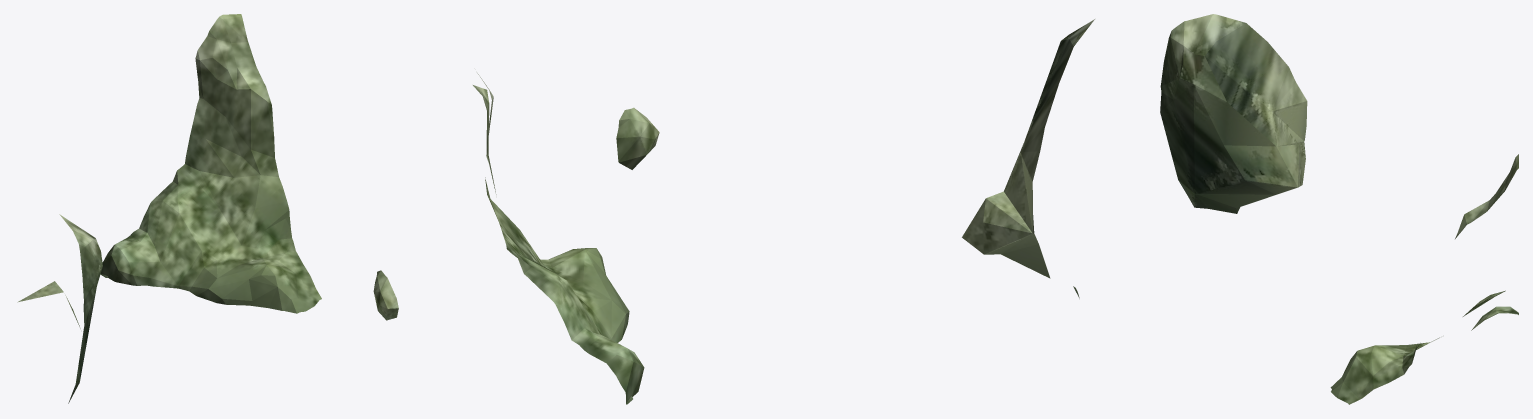
3 views of the same model, side by side, from view 1: azimuth 30°, elevation 25°; view 2: azimuth 150°, elevation 25°; view 3: azimuth 270°, elevation 25° (orthographic). The views are drawn at different scales.
Size of the model in its own units: 2.95 by 1.97 by 2.66.
1 material, 1 textured.
